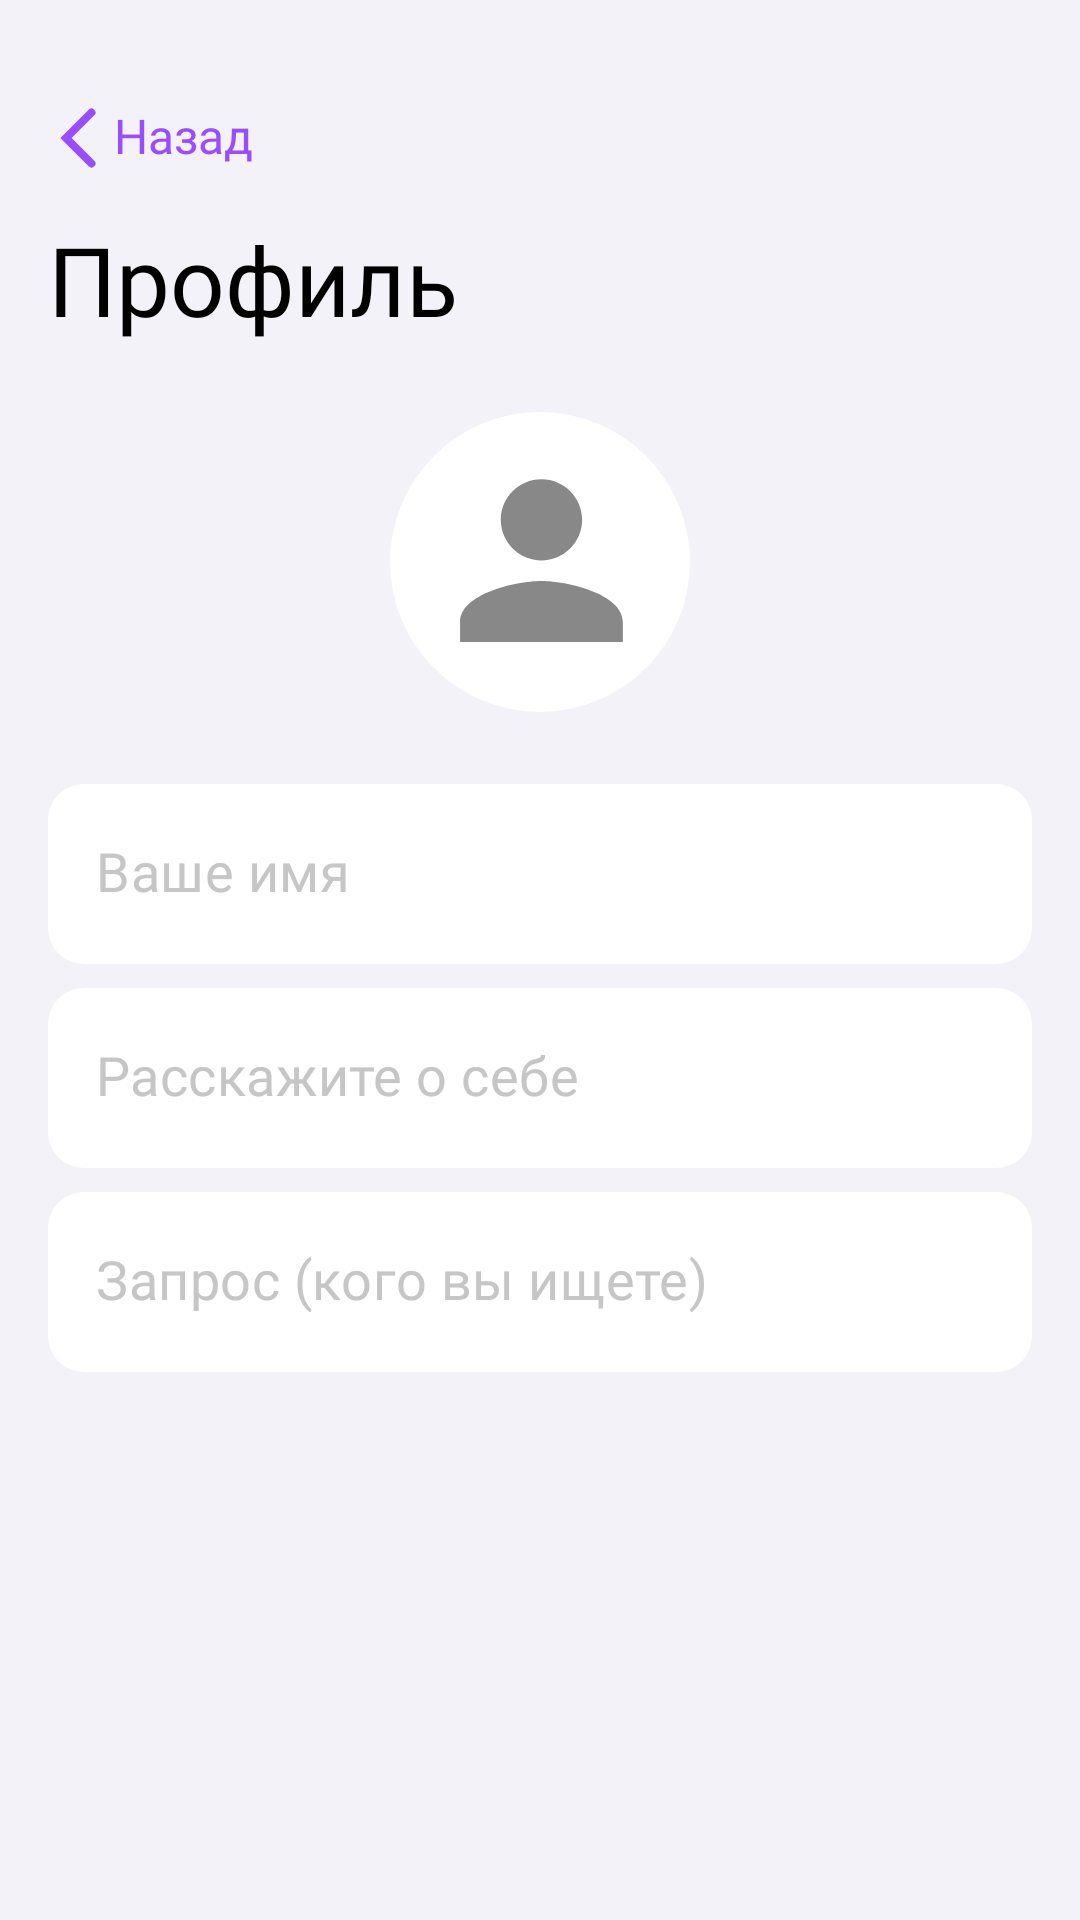

Where icons sit on this 1080px x 1920px app screen, as (x1, y1, x2, y2):
back: (60, 108, 96, 168)
profile: (460, 479, 623, 642)
